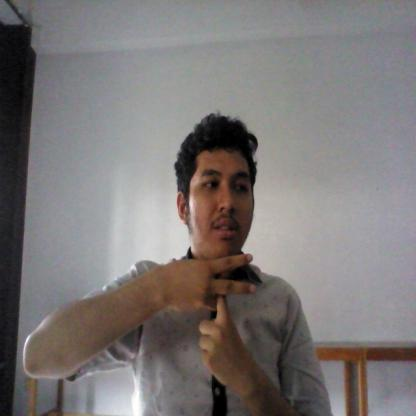F: (165, 254, 259, 385)
